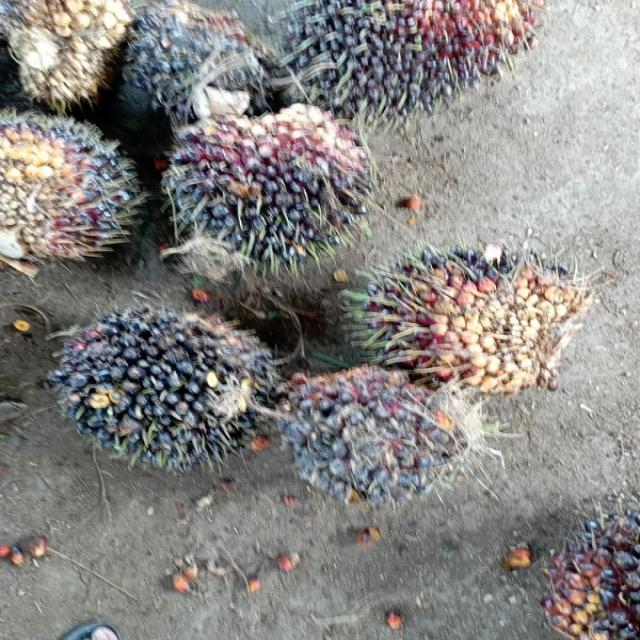fraksi 00: (55, 306, 268, 465), (360, 242, 576, 395), (253, 0, 530, 115), (164, 115, 373, 259), (278, 370, 484, 494), (0, 99, 146, 262), (105, 8, 265, 115)
